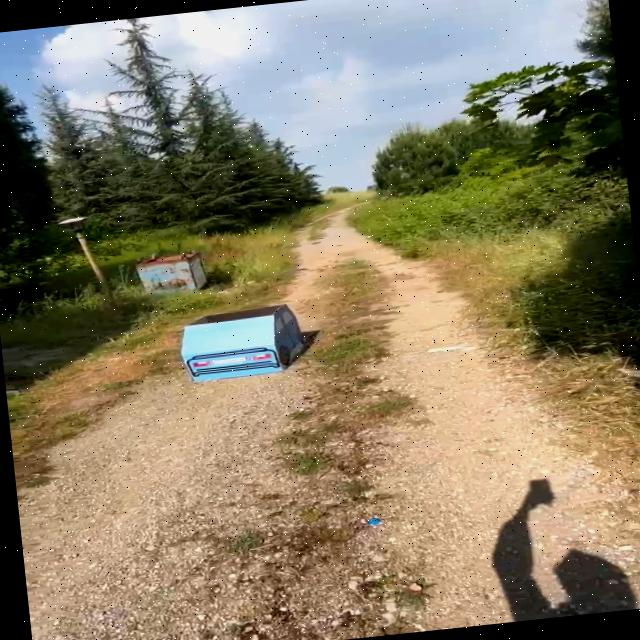blue_car: (163, 293, 324, 394)
